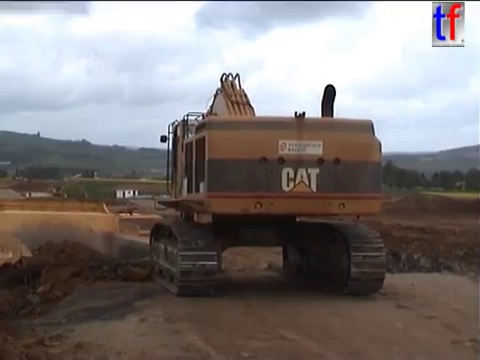excavator: (145, 69, 389, 299), (46, 175, 91, 201)
truck: (1, 199, 186, 327), (99, 208, 196, 272)
